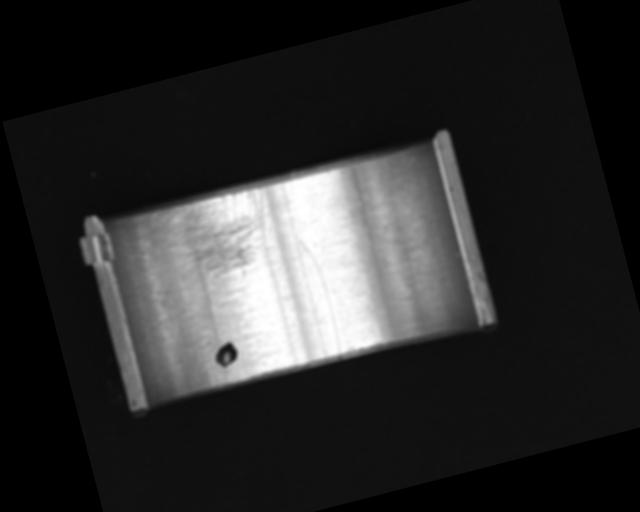blot: (209, 338, 242, 370)
nick: (297, 234, 345, 361)
scratch: (149, 183, 284, 298)
